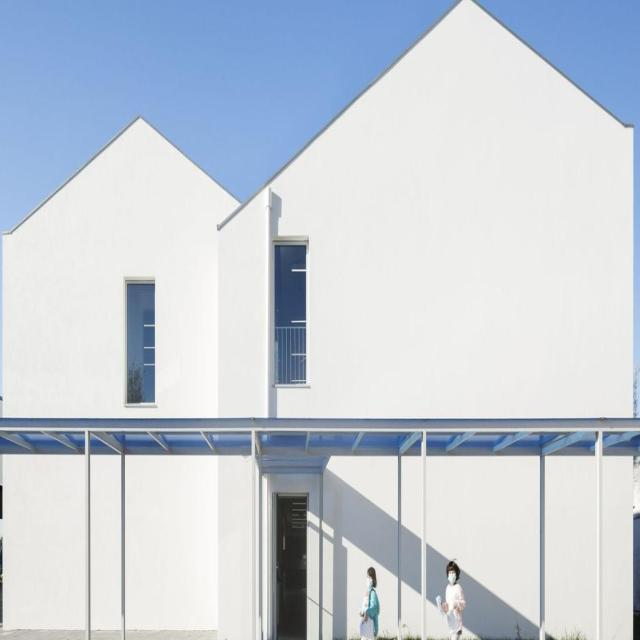door: (271, 486, 308, 635)
railing: (271, 327, 307, 383)
window: (126, 281, 154, 401), (271, 240, 305, 326)
